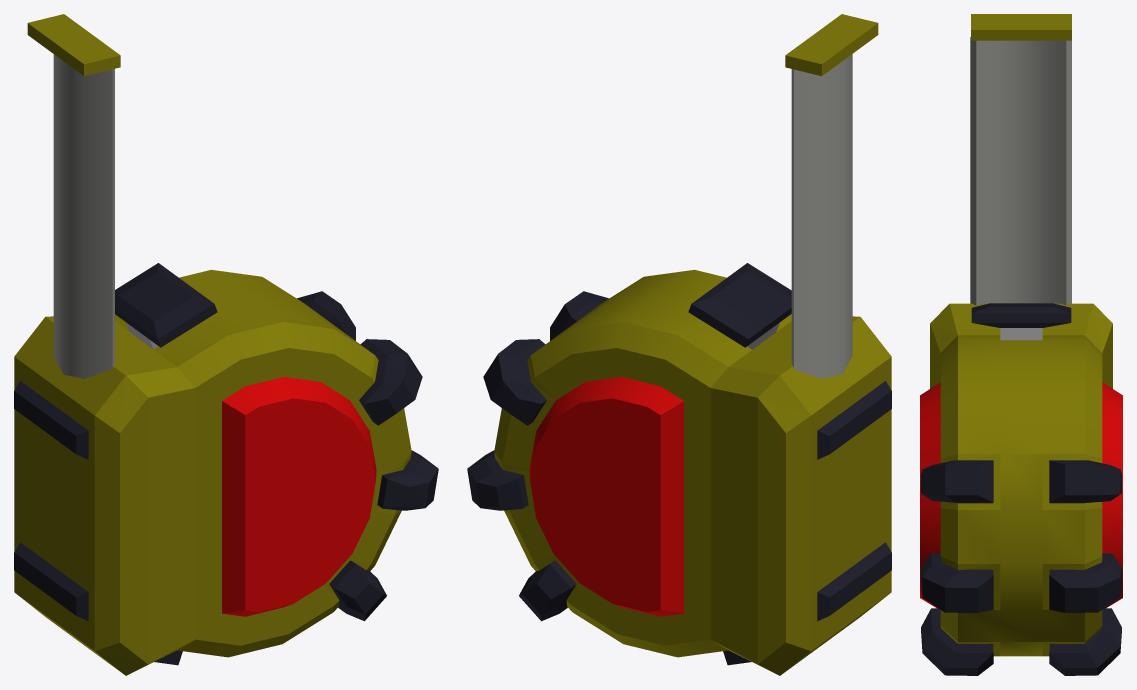
File: DistanceAchievement3.FBX
The picture shows the model from 3 angles, left to right: view 1: azimuth 30°, elevation 25°; view 2: azimuth 150°, elevation 25°; view 3: azimuth 270°, elevation 25°; orthographic projection. The views are drawn at different scales.
Visible parts, largest first — view 1: DistanceTier3; view 2: DistanceTier3; view 3: DistanceTier3.
Boxes of the visible parts, x1=… form: DistanceTier3: x1=14, y1=14, x2=438, y2=675; DistanceTier3: x1=467, y1=14, x2=891, y2=675; DistanceTier3: x1=920, y1=14, x2=1122, y2=675.
Size of the model in its own units: 35.07 by 61.63 by 19.65.
